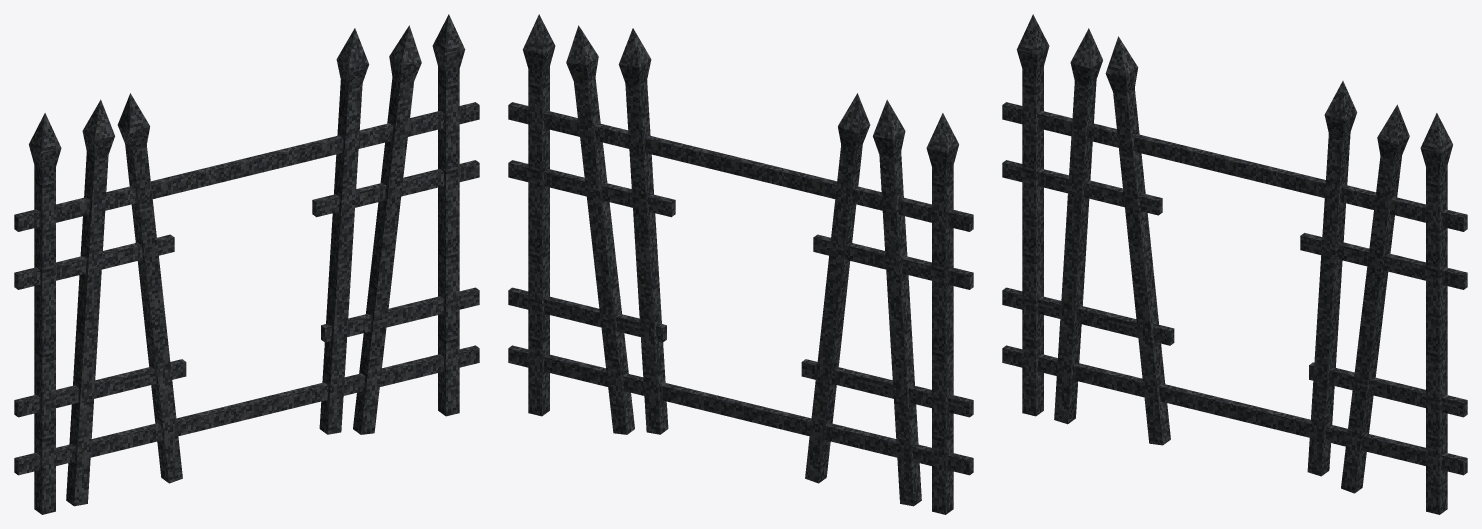
The model's file is ironfencebroken.glb.
3 views of the same model, side by side, from view 1: azimuth 30°, elevation 25°; view 2: azimuth 150°, elevation 25°; view 3: azimuth 330°, elevation 25° (orthographic).
Visible parts, largest first — view 1: ironFenceDamaged; view 2: ironFenceDamaged; view 3: ironFenceDamaged.
Part boxes in pixels (<box>): ironFenceDamaged: <box>14,14,479,514</box>; ironFenceDamaged: <box>508,14,973,514</box>; ironFenceDamaged: <box>1002,14,1467,514</box>.
Bounding box in the file's own units: 1 × 0.8432 × 0.045.
1 material, 1 textured.
